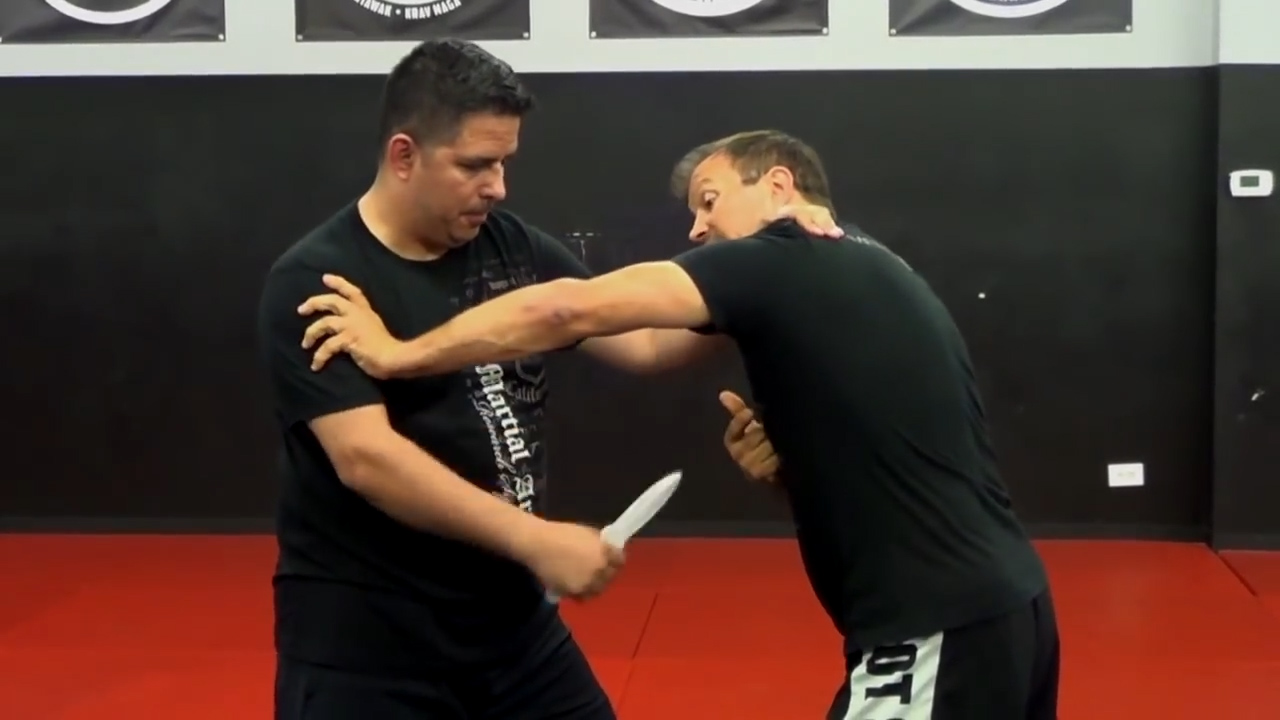knife: (538, 459, 688, 614)
